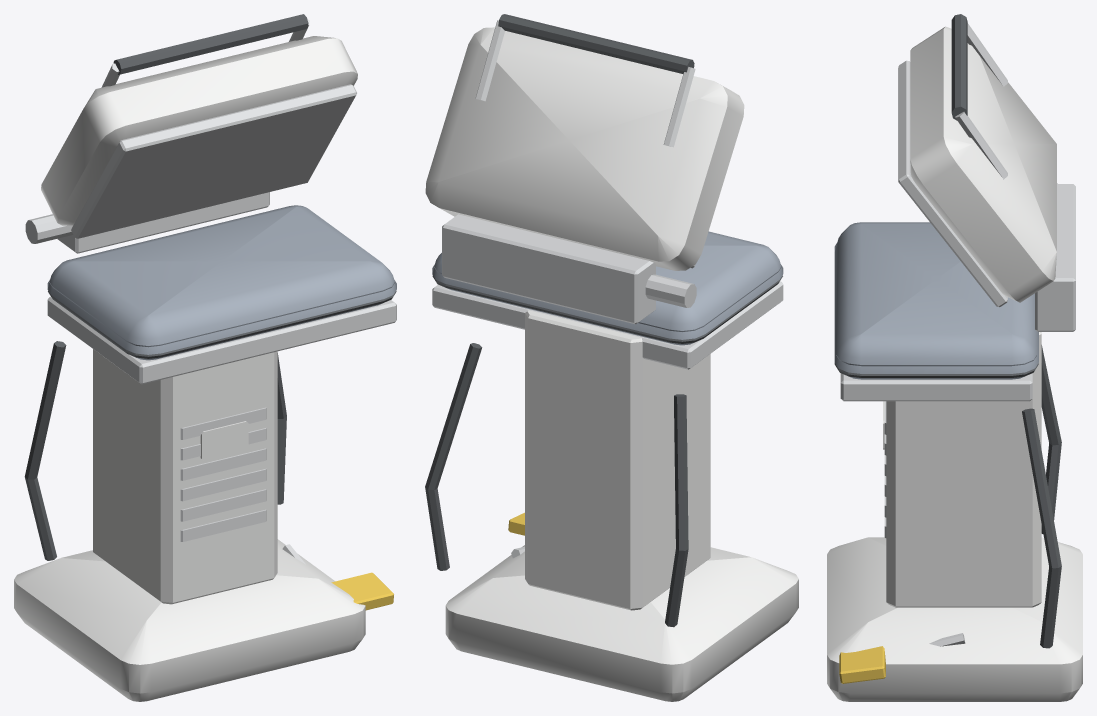
File: laundrette-and-cleaning-garment-press-open-aca8cf41__25541.glb
3 renders of one model, left to right at view 1: azimuth 30°, elevation 25°; view 2: azimuth 150°, elevation 25°; view 3: azimuth 270°, elevation 25°, orthographic.
Parts seen in each view (by area): view 1: garment-press-open, head (×3); view 2: garment-press-open, head (×3); view 3: garment-press-open, head (×3).
Boxes of the visible parts, x1,y1,x2,y2 form: garment-press-open: [14, 192, 396, 701]; head (×3): [41, 14, 357, 238]; garment-press-open: [425, 214, 798, 701]; head (×3): [425, 14, 744, 270]; garment-press-open: [827, 183, 1082, 701]; head (×3): [898, 14, 1056, 307].
Size of the model in its own units: 0.7135 by 1.44 by 0.56.
